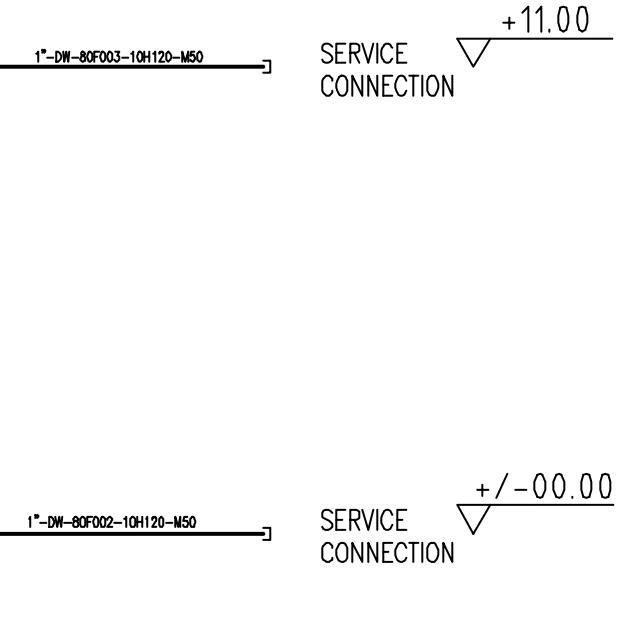EC: (237, 53, 273, 76), (238, 523, 274, 545)
